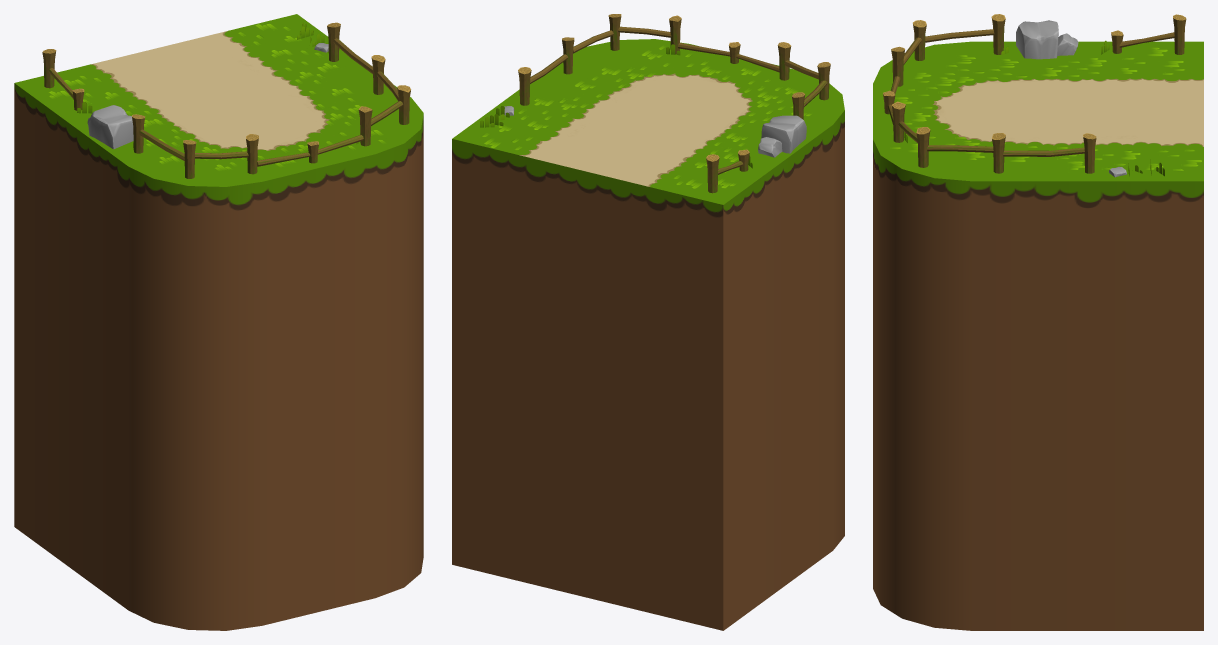
Rendered from Plataforma Final.fbx.
3 views of the same model, side by side, from view 1: azimuth 30°, elevation 25°; view 2: azimuth 150°, elevation 25°; view 3: azimuth 270°, elevation 25° (orthographic). The views are drawn at different scales.
Parts seen in each view (by area): view 1: Plataforma Inicio.002; view 2: Plataforma Inicio.002; view 3: Plataforma Inicio.002.
Boxes of the visible parts, left/top/right/bottom form: Plataforma Inicio.002: left=14, top=14, right=423, bottom=630; Plataforma Inicio.002: left=452, top=14, right=844, bottom=630; Plataforma Inicio.002: left=873, top=14, right=1203, bottom=630.
Bounding box in the file's own units: 1000 × 1621 × 1000.
